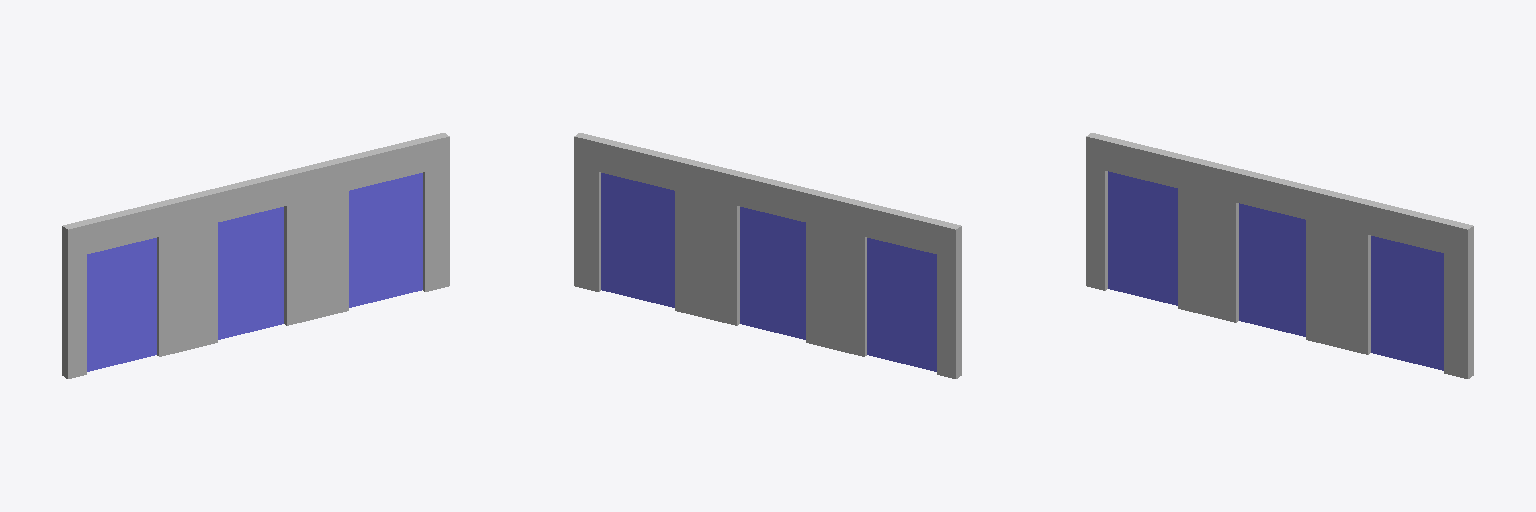
Rendered from wall1.obj.
3 views of the same model, side by side, from view 1: azimuth 30°, elevation 25°; view 2: azimuth 150°, elevation 25°; view 3: azimuth 330°, elevation 25° (orthographic).
Parts seen in each view (by area): view 1: Parede_Cube, Vidro_Cube.001; view 2: Parede_Cube, Vidro_Cube.001; view 3: Parede_Cube, Vidro_Cube.001.
Boxes of the visible parts, box(x1,y1,x2,y2) form: Parede_Cube: box(62, 133, 449, 378); Vidro_Cube.001: box(87, 173, 422, 371); Parede_Cube: box(574, 133, 961, 378); Vidro_Cube.001: box(601, 173, 936, 371); Parede_Cube: box(1086, 133, 1473, 378); Vidro_Cube.001: box(1108, 171, 1443, 370).
Bounding box in the file's own units: 8 × 3 × 0.2.